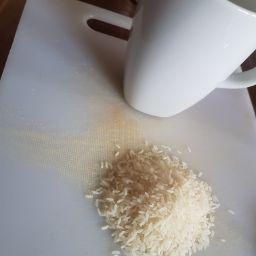Basmati rice: (67, 114, 256, 256)
